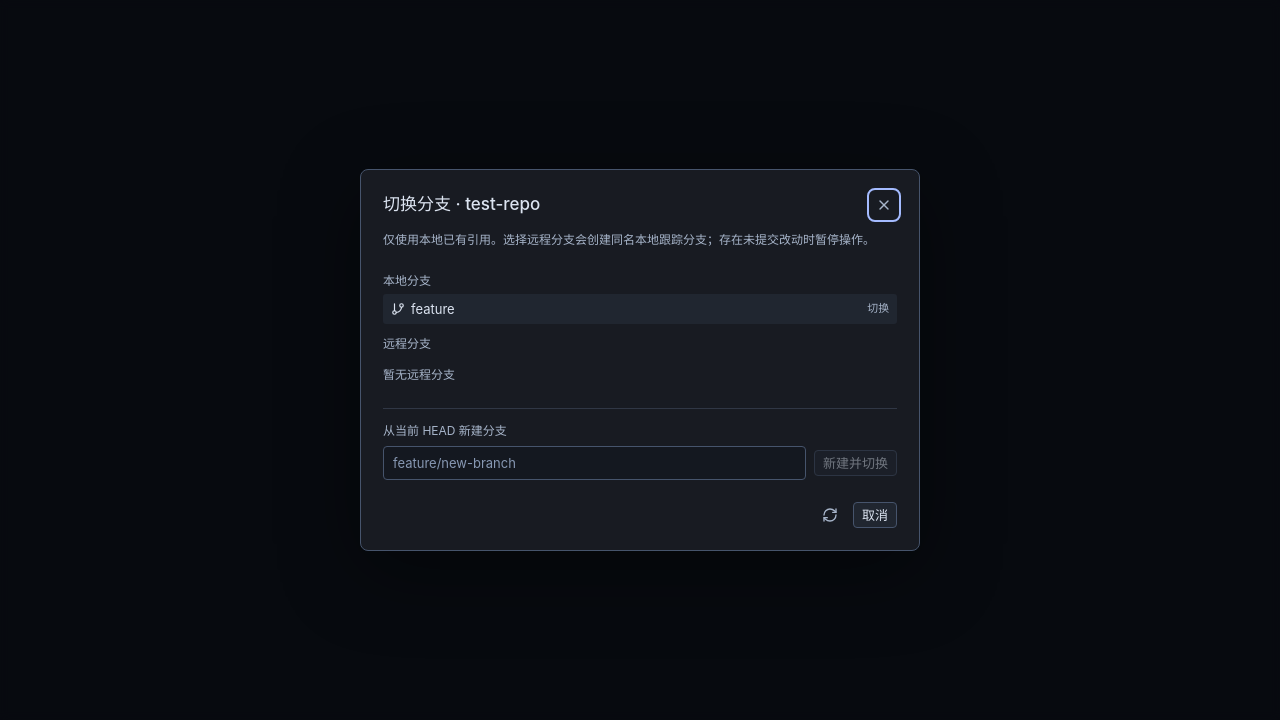
preserves the switch error when refreshing the branch list also fails
The width and height of the screenshot is (1280, 720).
Click the button "feature 切换": (433, 309) [383, 294, 897, 324]
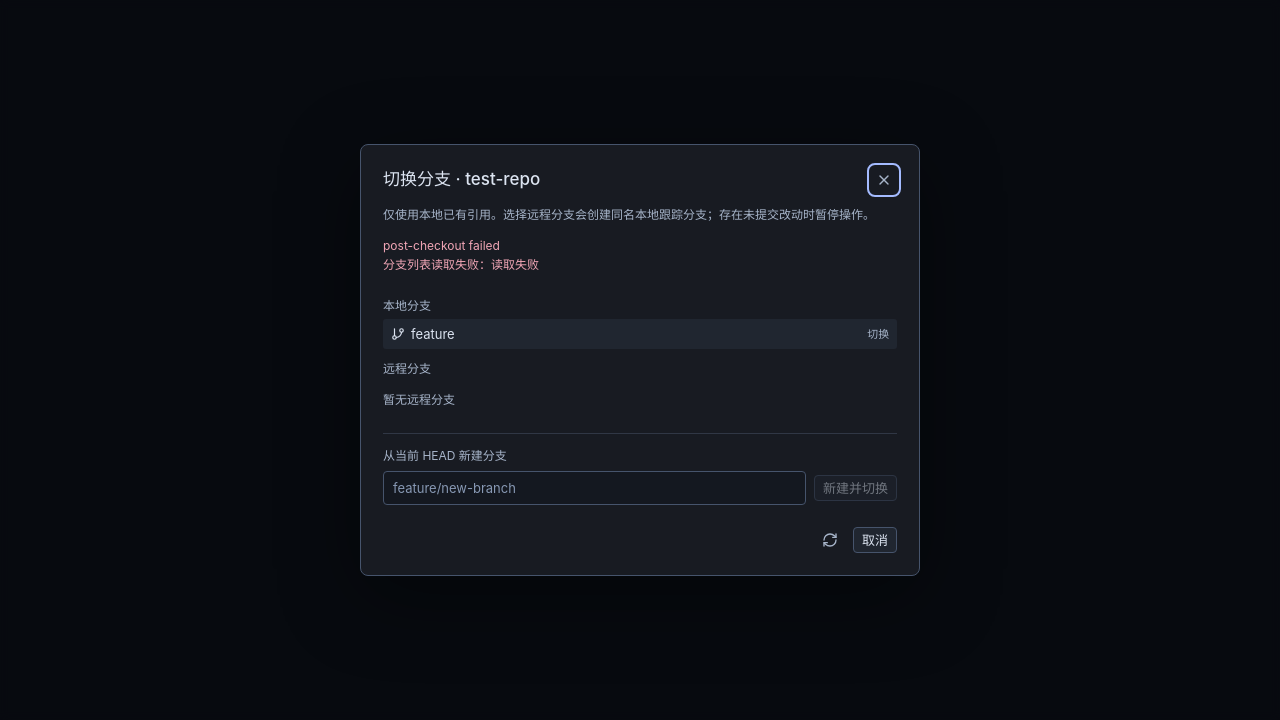
Now the message shows "post-checkout failed", box [383, 238, 539, 272]
Now the message shows "分支列表读取失败：读取失败", box [383, 238, 539, 272]
